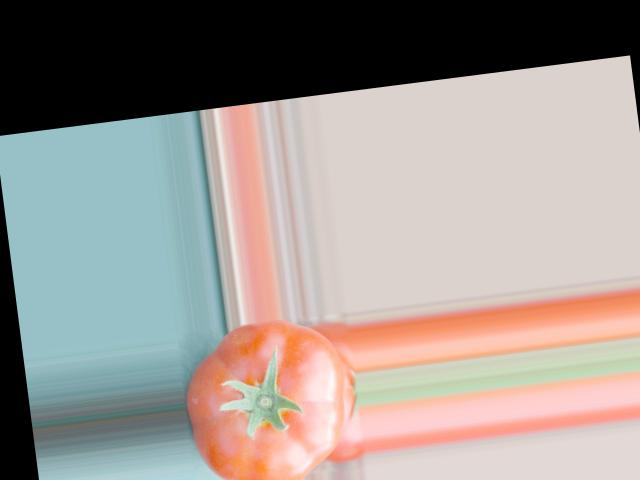tomato: (178, 311, 356, 480)
